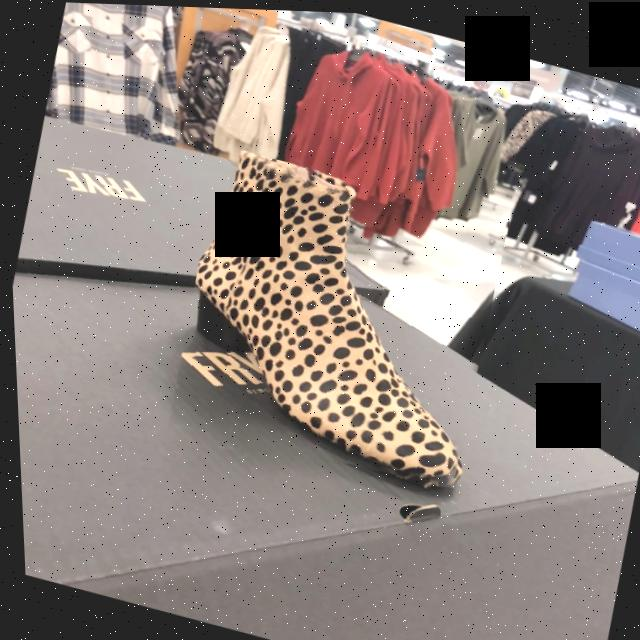shoe: (192, 152, 455, 479)
